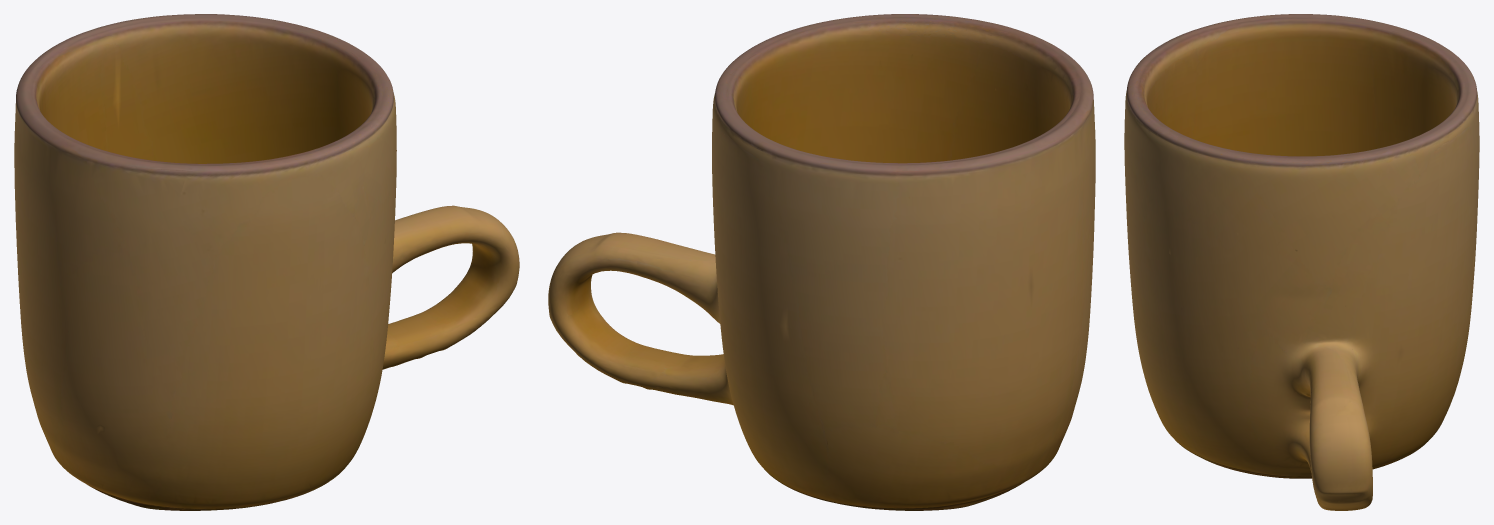
3 renders of one model, left to right at view 1: azimuth 30°, elevation 25°; view 2: azimuth 150°, elevation 25°; view 3: azimuth 270°, elevation 25°, orthographic. The views are drawn at different scales.
Parts seen in each view (by area): view 1: node_0; view 2: node_0; view 3: node_0.
Boxes of the visible parts, x1,y1,x2,y2 form: node_0: (14, 14, 519, 510); node_0: (548, 14, 1095, 510); node_0: (1124, 14, 1479, 510).
Size of the model in its own units: 0.9941 by 0.7018 by 0.6693.
1 material, 1 textured.
